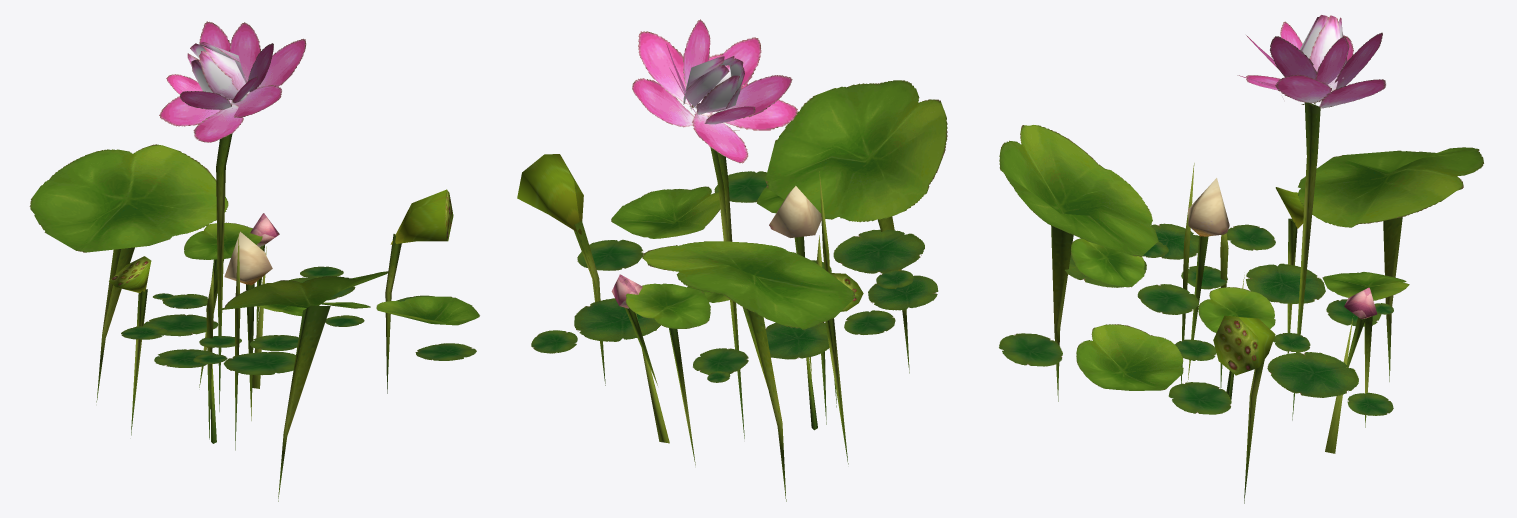
The model's file is sm_lotus_hehua.FBX.
3 renders of one model, left to right at view 1: azimuth 30°, elevation 25°; view 2: azimuth 150°, elevation 25°; view 3: azimuth 270°, elevation 25°, orthographic. The views are drawn at different scales.
Visible parts, largest first — view 1: sm_lotus_01; view 2: sm_lotus_01; view 3: sm_lotus_01.
Boxes of the visible parts, x1,y1,x2,y2 form: sm_lotus_01: (29, 21, 479, 501); sm_lotus_01: (517, 19, 947, 501); sm_lotus_01: (999, 15, 1483, 503).
Bounding box in the file's own units: 60.81 × 68.27 × 62.04.
